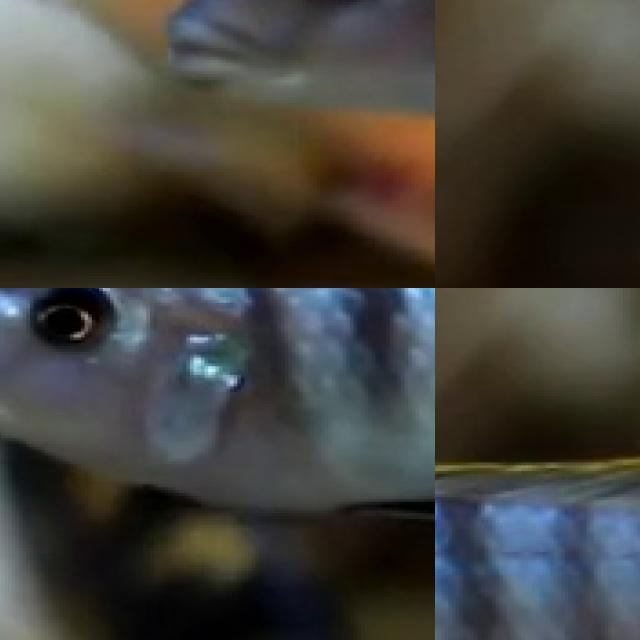fish: (0, 0, 435, 288), (0, 450, 435, 640)
